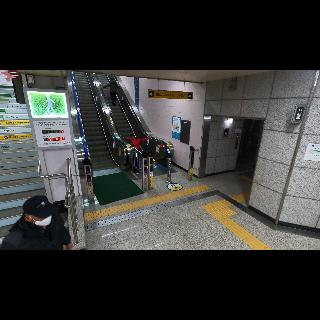anomaly: (120, 130, 152, 156)
normal: (0, 192, 76, 250), (100, 78, 122, 109)
